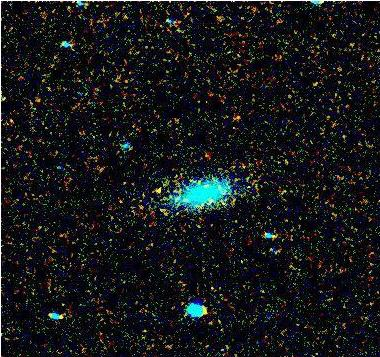star: (144, 175, 174, 205)
